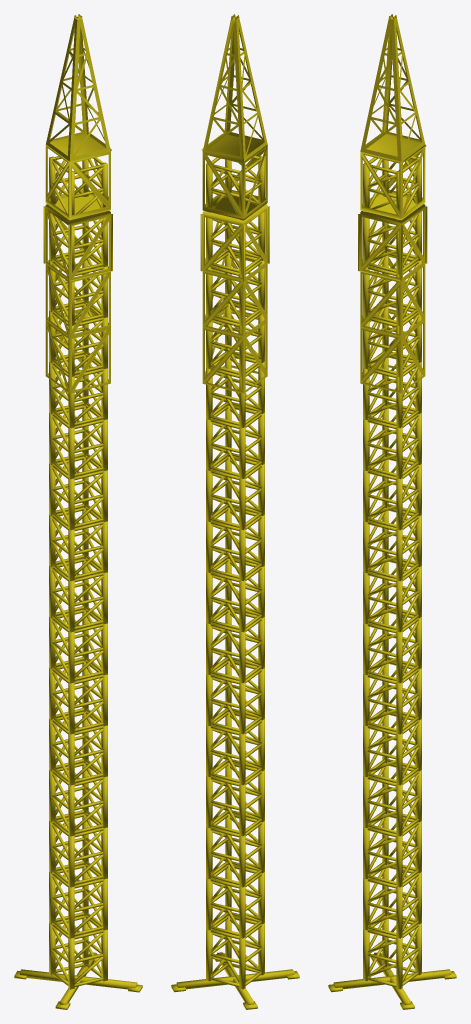
The model's file is tower.obj.
3 renders of one model, left to right at view 1: azimuth 30°, elevation 25°; view 2: azimuth 150°, elevation 25°; view 3: azimuth 330°, elevation 25°, orthographic.
Parts seen in each view (by area): view 1: crane_Mesh.065; view 2: crane_Mesh.065; view 3: crane_Mesh.065.
Part boxes in pixels (x1=…): crane_Mesh.065: x1=14, y1=14, x2=142, y2=1009; crane_Mesh.065: x1=171, y1=14, x2=299, y2=1009; crane_Mesh.065: x1=328, y1=14, x2=456, y2=1009.
Size of the model in its own units: 1.93 by 20.47 by 1.93.
